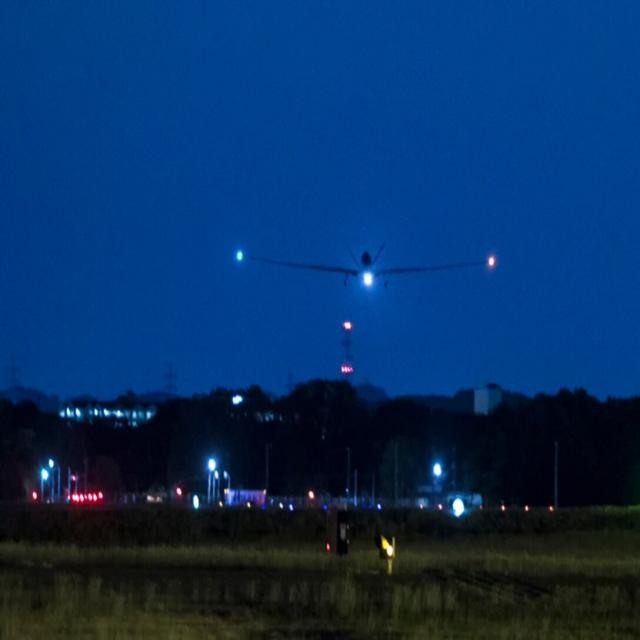MIL_Plane: (237, 239, 496, 290)
